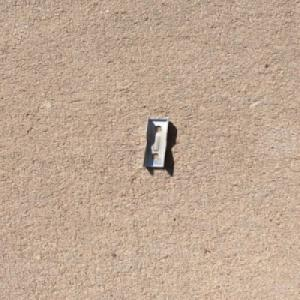ClampPart: (140, 116, 173, 170)
